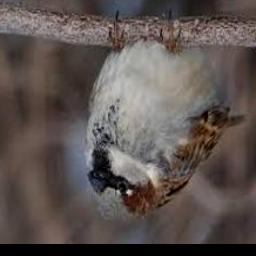Sparrow: (86, 11, 249, 222)
